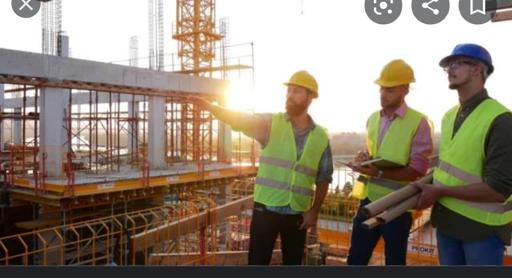hard hat: (440, 41, 497, 66), (375, 59, 418, 86), (283, 71, 326, 97)
safe person: (250, 69, 336, 260), (436, 45, 504, 246), (360, 59, 425, 264)
